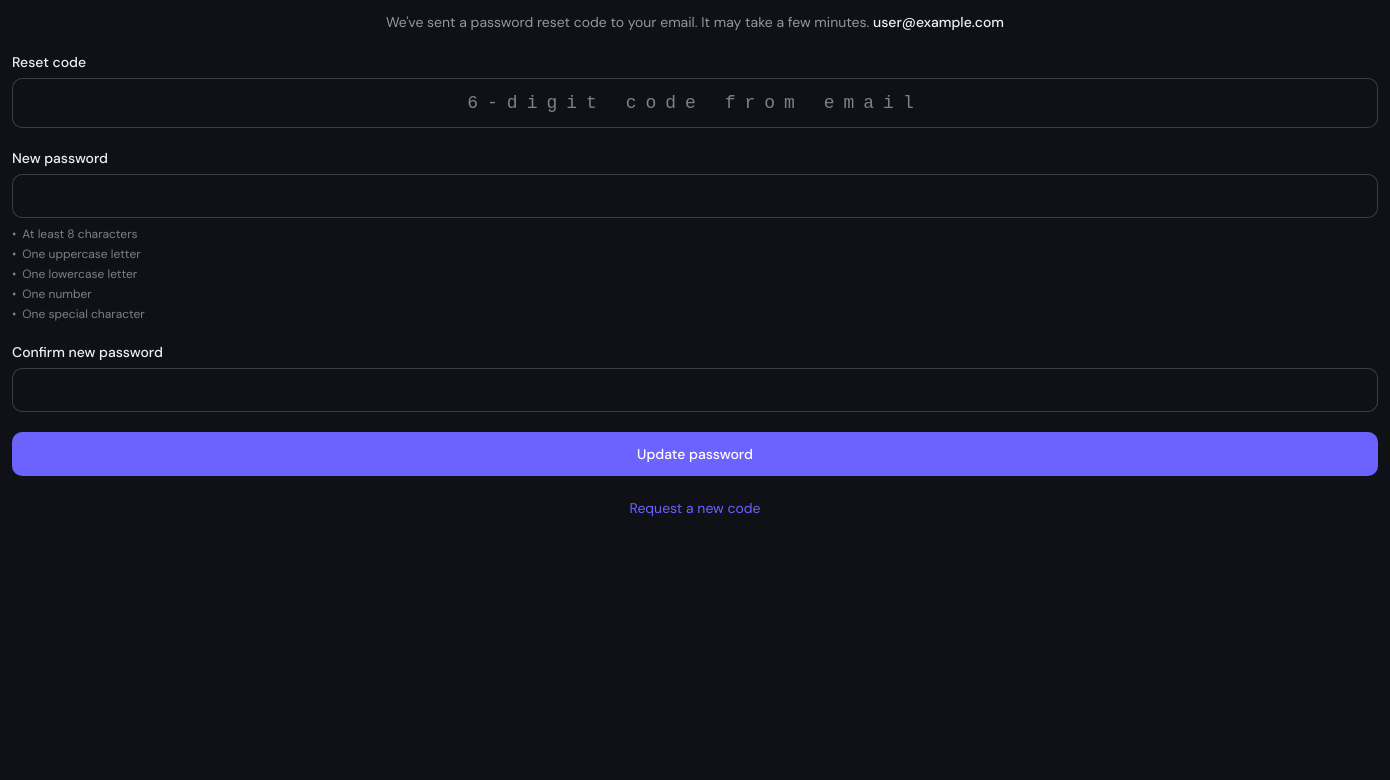
it: ResetPasswordForm › shows invalidCode error for RESET_CODE_INVALID
The image size is (1390, 780).
Type "000000" into the field labelled "Reset code" at (695, 103), box left=12, top=78, right=1378, bottom=128
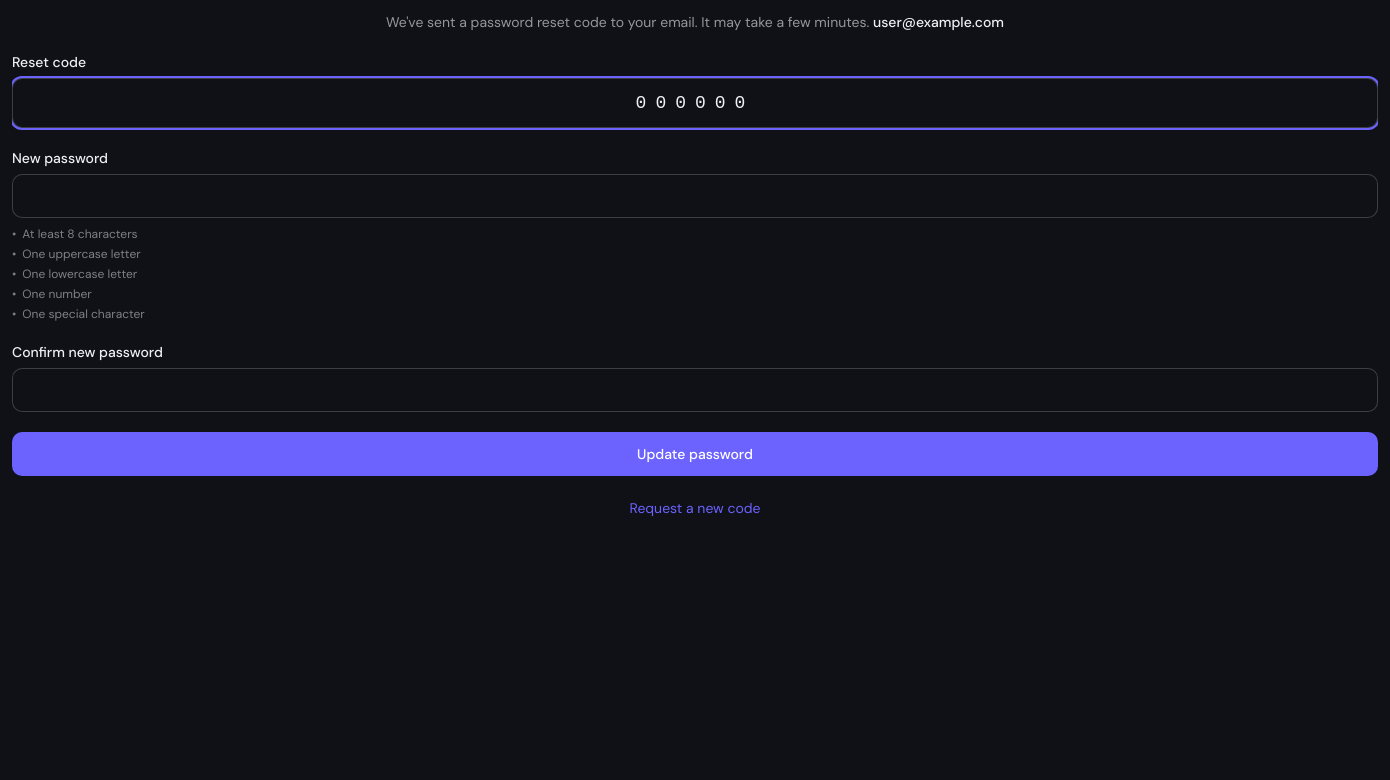
Type "BrandNewPass1!" into the password field labelled "New password" at (695, 196), box left=12, top=174, right=1378, bottom=218
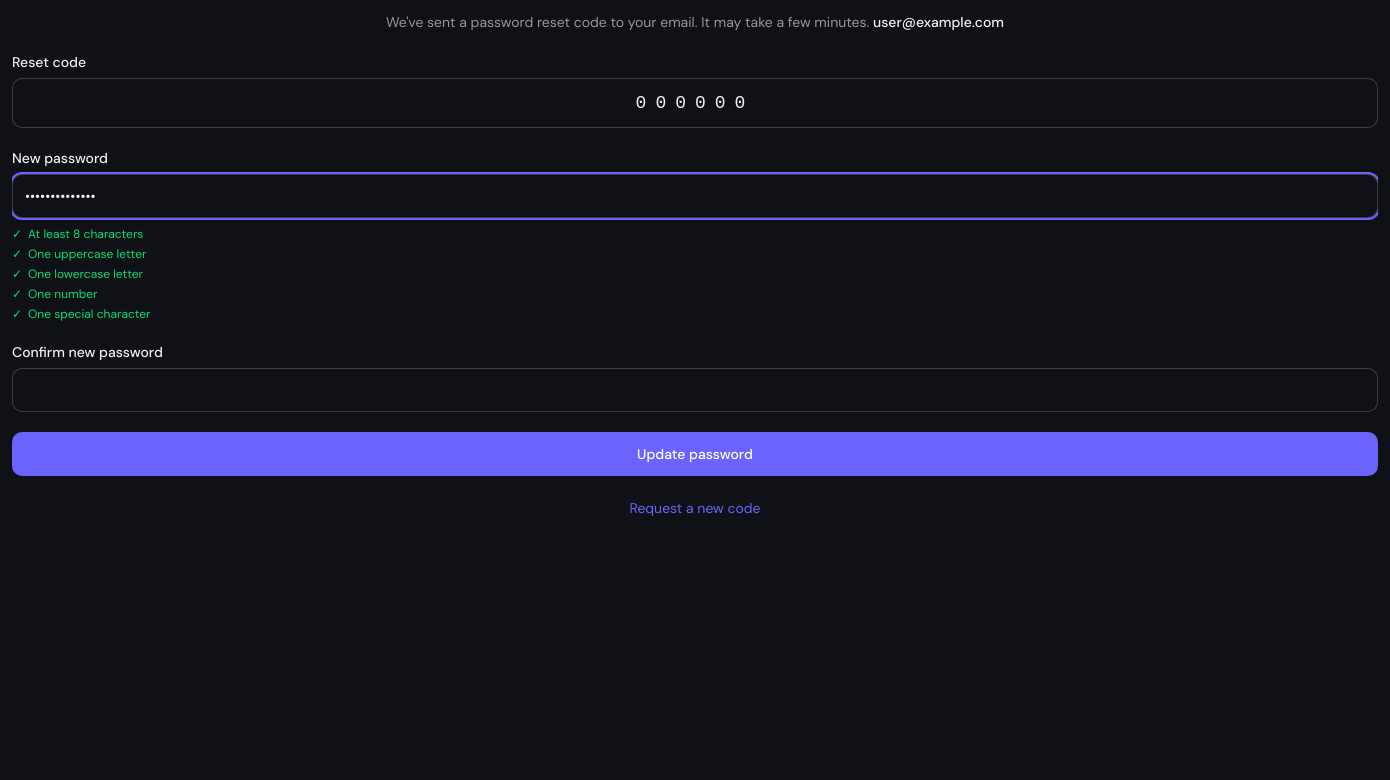
Type "BrandNewPass1!" into the password field labelled "Confirm new password" at (695, 390), box left=12, top=368, right=1378, bottom=412
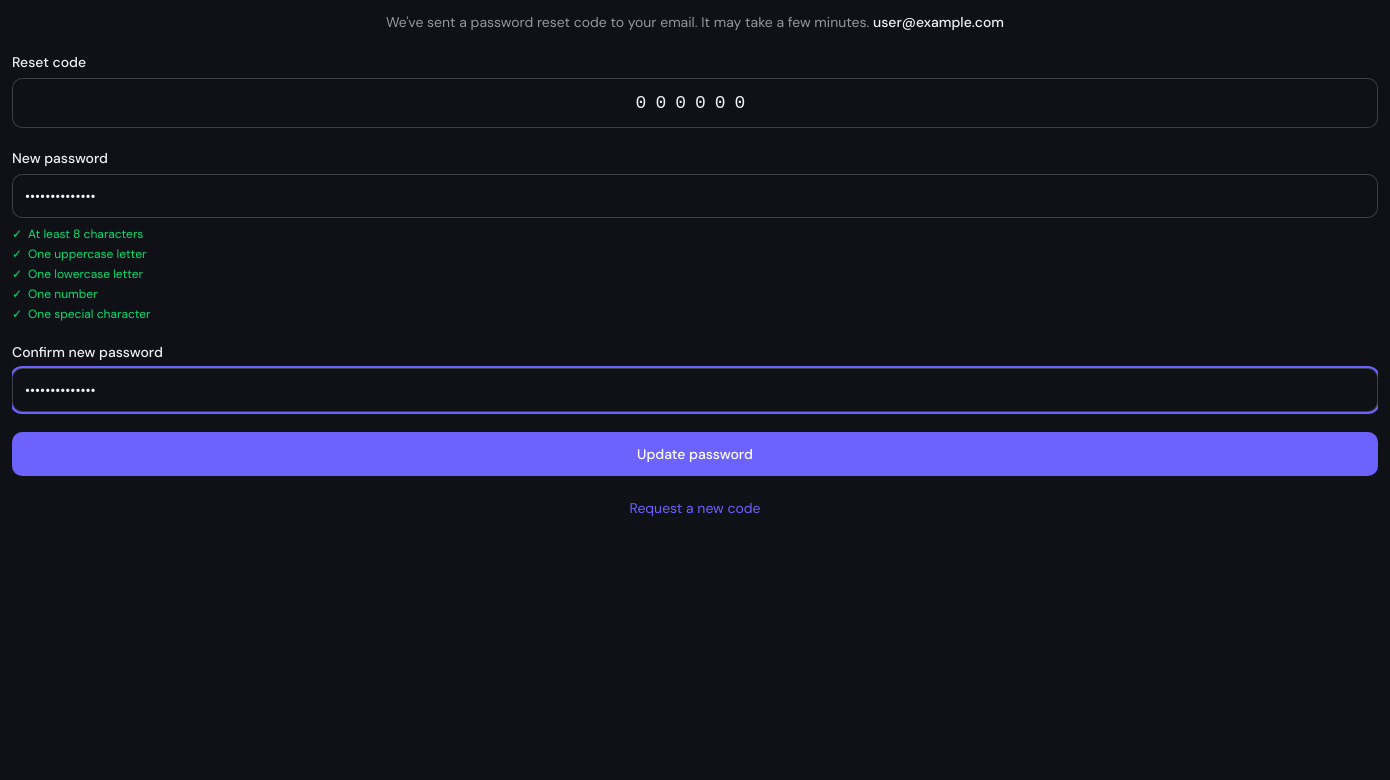
Click the button "Update password" at (695, 454), box left=12, top=432, right=1378, bottom=476
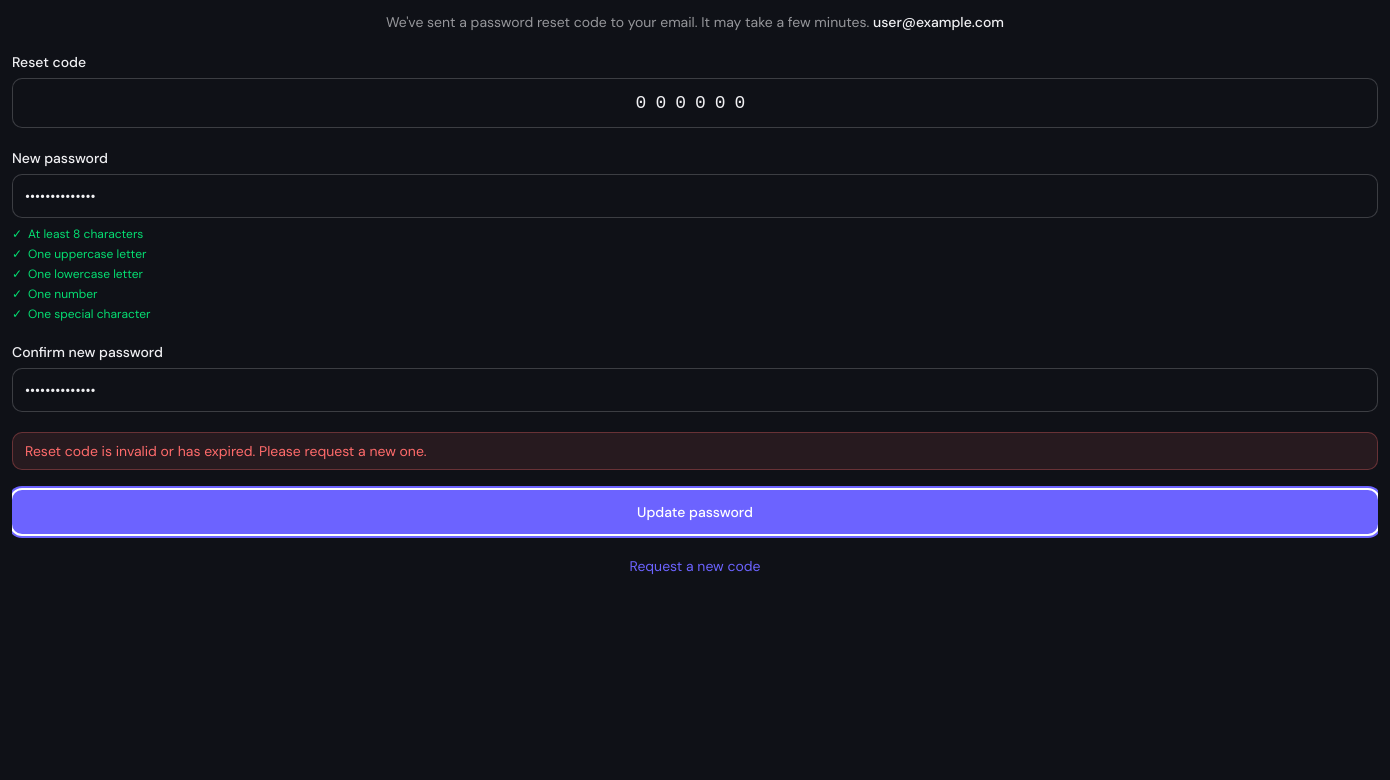
Expected: the text "Reset code is invalid or has expired. Please request a new one." is shown, left=12, top=432, right=1378, bottom=470
